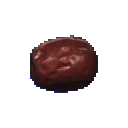gd: (17, 18, 119, 116)
